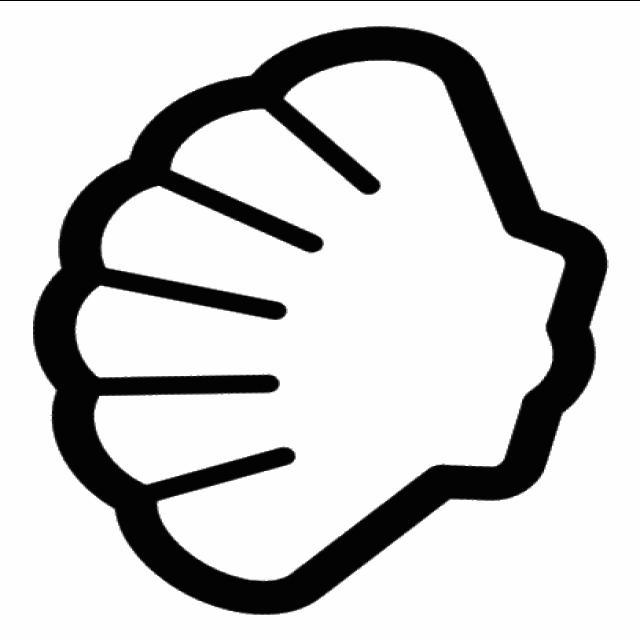shell: (23, 15, 622, 631)
